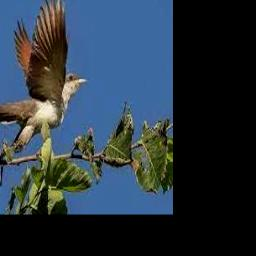Cuckoo: (0, 0, 88, 150)
